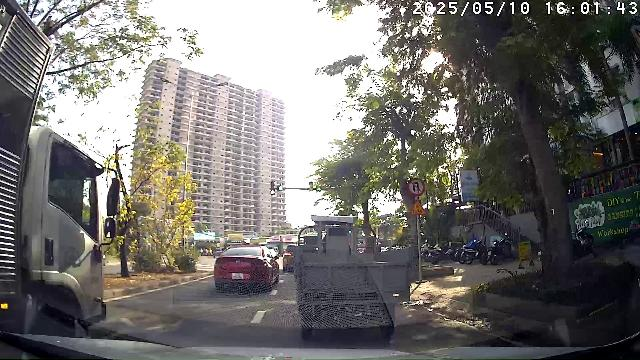124a-cam-quay-dau-xe: (407, 178, 425, 196)
